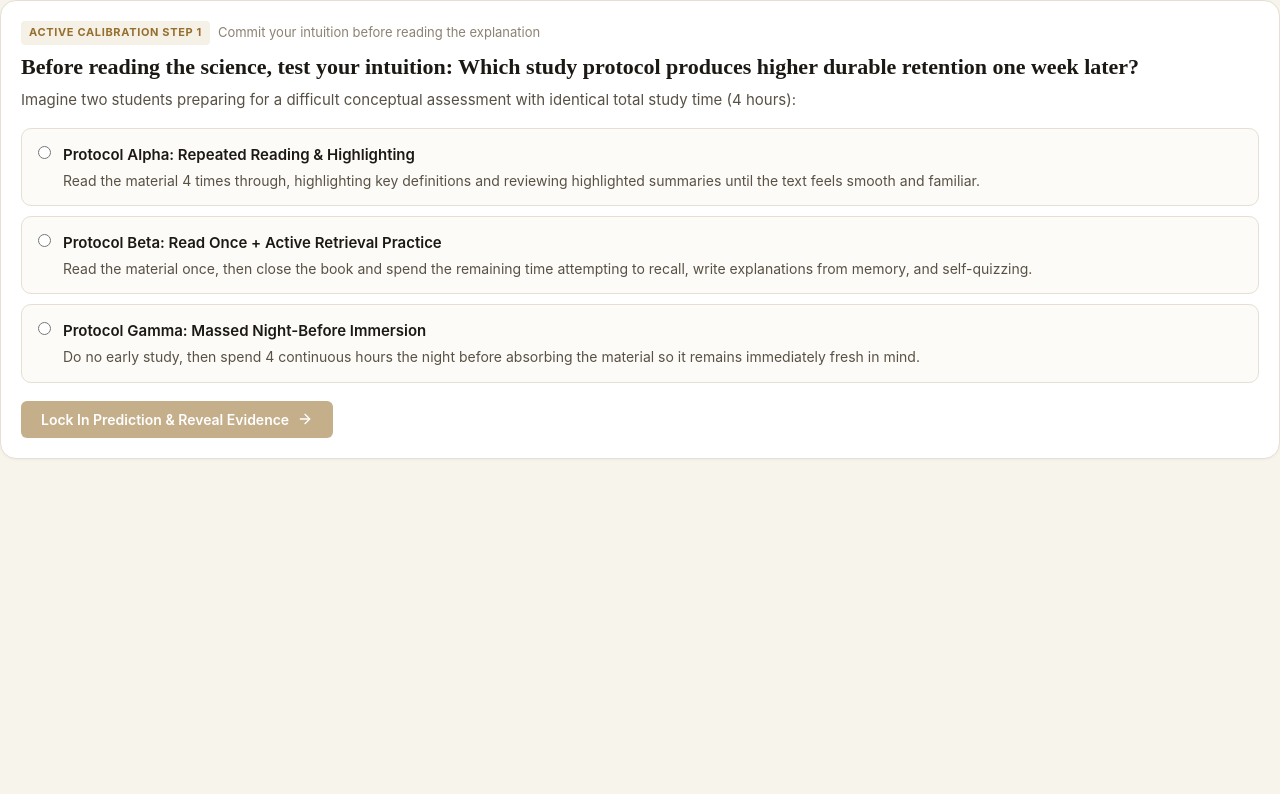
Scenario: PredictionInteraction Component › renders specific explanatory feedback for Protocol Alpha (Fluency Illusion)
The width and height of the screenshot is (1280, 794).
Click the radio button showing "opt-reread". click: [44, 152]
box: [38,146,51,159]
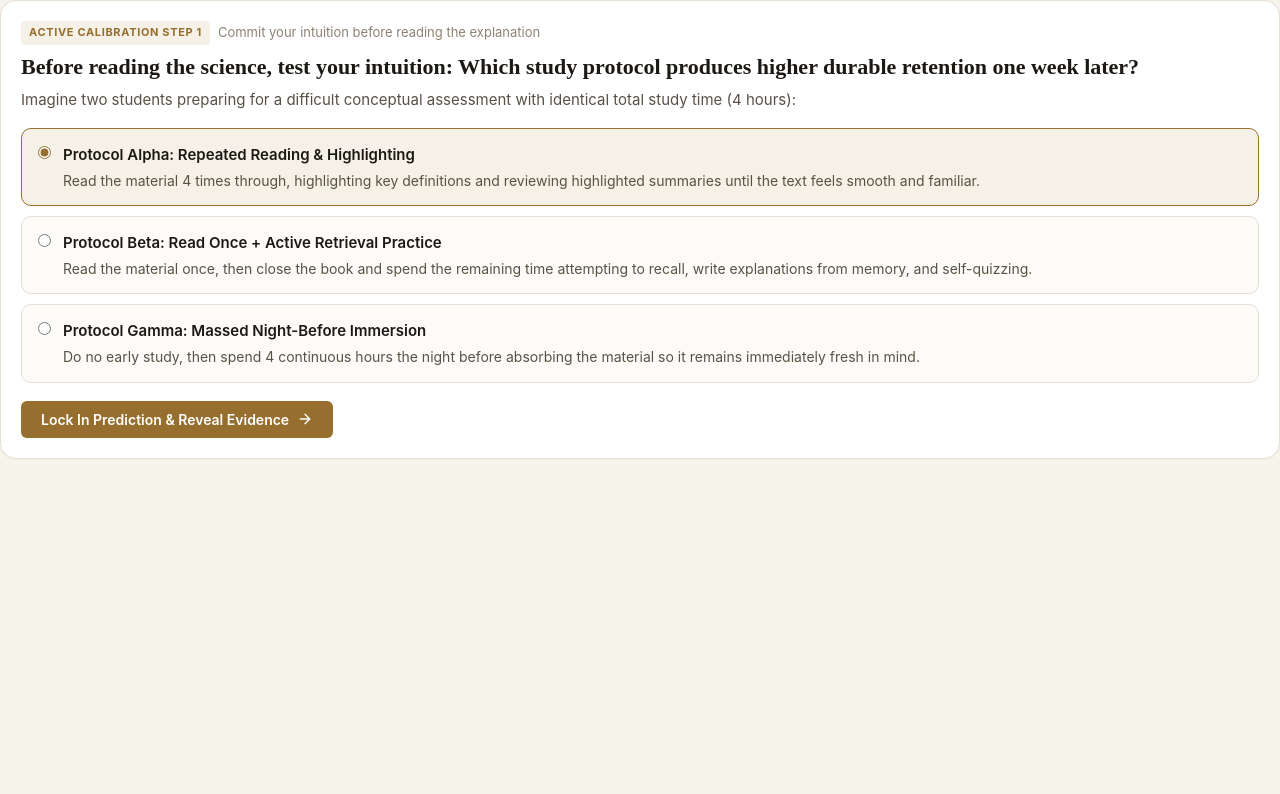
Click the button "Lock In Prediction & Reveal Evidence". click: [177, 419]
box: [21,401,333,438]
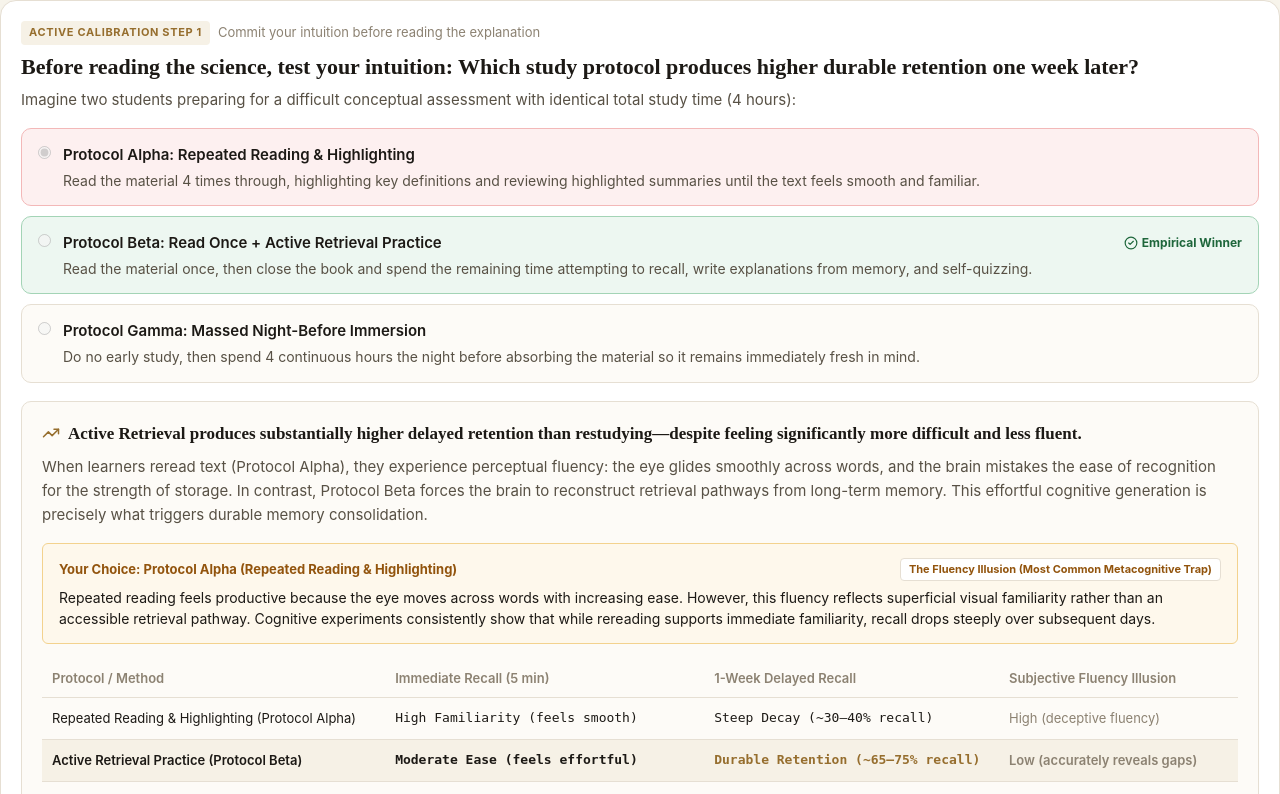
Now the text "The Fluency Illusion (Most Common Metacognitive Trap)" is shown, box [900,558,1221,581]
Now the text "Repeated reading feels productive because the eye moves across words with increasing ease" is shown, box [59,589,1163,627]
